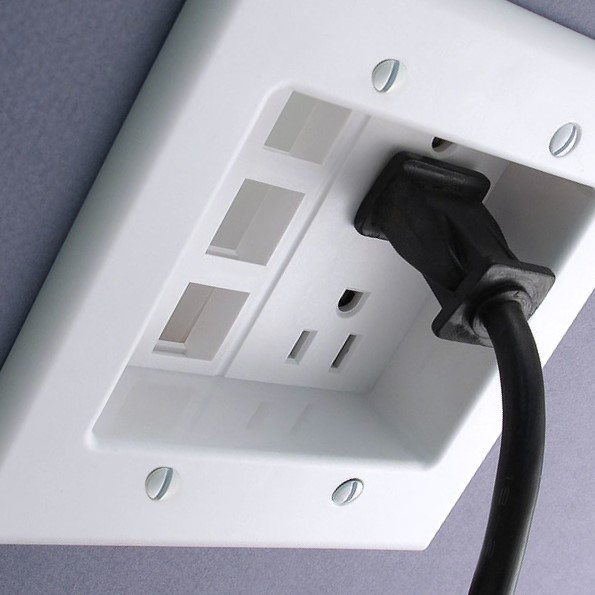outlet: (277, 276, 381, 379)
